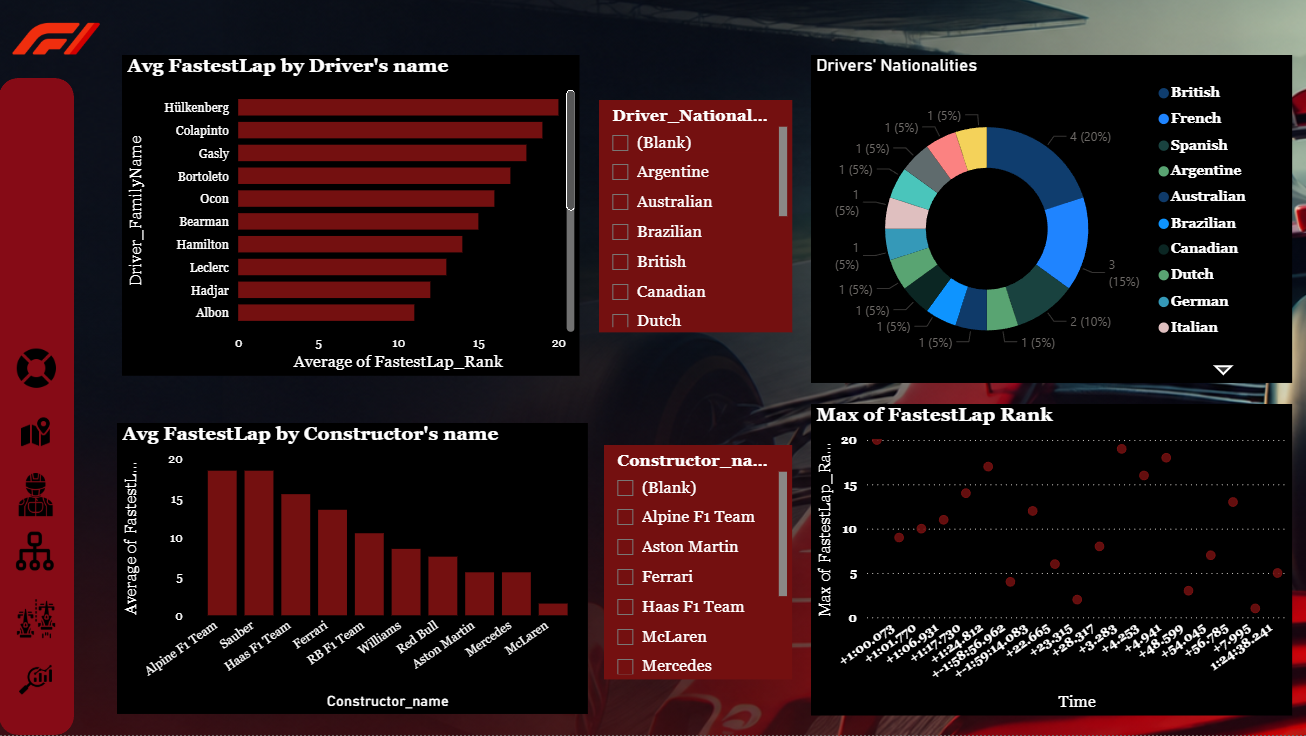

Layout of this report page (visuals, bound fields, positions):
{"tool":"powerbi","page":{"name":"2025 Season evaluation","canvas":[1280,720],"ordinal":5},"visuals":[{"type":"barChart","title":"Avg FastestLap by Driver''s name","fields":{"Category":["f1_2025_last_race_results.Driver_FamilyName"],"Y":["Avg(f1_2025_last_race_results.FastestLap_Rank)"]},"box":[123.5,58.4,445.5,312.2],"z":0},{"type":"shape","box":[3.9,80.7,72.9,639],"z":1000},{"type":"columnChart","title":"Avg FastestLap by Constructor''s name","fields":{"Y":["Avg(f1_2025_last_race_results.FastestLap_Rank)"],"Category":["f1_2025_last_race_results.Constructor_name"]},"box":[118.7,416.3,458.1,283],"z":2000},{"type":"group","id":"g1","title":"Group 2","box":[10.9,339.5,58.9,350.2],"z":3000},{"type":"donutChart","title":"Drivers'' Nationalities","fields":{"Category":["f1_2025_last_race_results.Driver_Nationality"],"Y":["CountNonNull(f1_2025_last_race_results.Driver_ID)"]},"box":[793.7,58.4,467.8,319],"z":4000},{"type":"image","box":[0,0,118.7,84.6],"z":5000},{"type":"scatterChart","title":"Max of FastestLap Rank ","fields":{"Y":["Max(f1_2025_last_race_results.FastestLap_Rank)"],"X":["f1_2025_last_race_results.Time"]},"box":[793.7,397.8,467.8,303.5],"z":6000},{"type":"slicer","fields":{"Values":["f1_2025_last_race_results.Driver_Nationality"]},"box":[587.5,102.1,187.7,225.7],"z":7000},{"type":"image","box":[25.6,397.9,28.1,54.5],"z":8000,"group":"g1"},{"type":"slicer","fields":{"Values":["f1_2025_last_race_results.Constructor_name"]},"box":[592.3,437.7,182.9,227.6],"z":8000},{"type":"image","box":[15.8,465,47.7,41.8],"z":9000,"group":"g1"},{"type":"image","box":[20.7,583.6,38.6,45.7],"z":10000,"group":"g1"},{"type":"image","box":[12.3,521.4,54,38.9],"z":11000,"group":"g1"},{"type":"image","box":[22.8,642,34.4,47.7],"z":12000,"group":"g1"},{"type":"image","box":[10.9,339.5,58.9,46.7],"z":14000,"group":"g1"}]}

Visuals, with their boxes on the page's 1280x720 design canvas (x1, y1, x2, y2). These are canvas units, not pixel positions in the 1306x736 screenshot, which may show the page scaled, cropped or inside an application window:
"Avg FastestLap by Driver''s name" barChart: rect(124, 58, 569, 371)
shape: rect(4, 81, 77, 720)
"Avg FastestLap by Constructor''s name" columnChart: rect(119, 416, 577, 699)
"Group 2" group: rect(11, 340, 70, 690)
"Drivers'' Nationalities" donutChart: rect(794, 58, 1262, 377)
image: rect(0, 0, 119, 85)
"Max of FastestLap Rank " scatterChart: rect(794, 398, 1262, 701)
slicer - f1_2025_last_race_results.Driver_Nationality: rect(588, 102, 775, 328)
image: rect(26, 398, 54, 452)
slicer - f1_2025_last_race_results.Constructor_name: rect(592, 438, 775, 665)
image: rect(16, 465, 64, 507)
image: rect(21, 584, 59, 629)
image: rect(12, 521, 66, 560)
image: rect(23, 642, 57, 690)
image: rect(11, 340, 70, 386)
